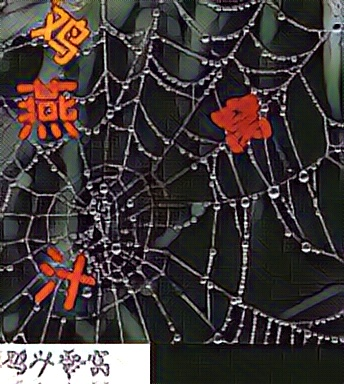BCA6: (28, 4, 90, 68)
CED1: (210, 93, 272, 157)
D1E0: (16, 78, 78, 142)
D6AD: (34, 246, 96, 310)
